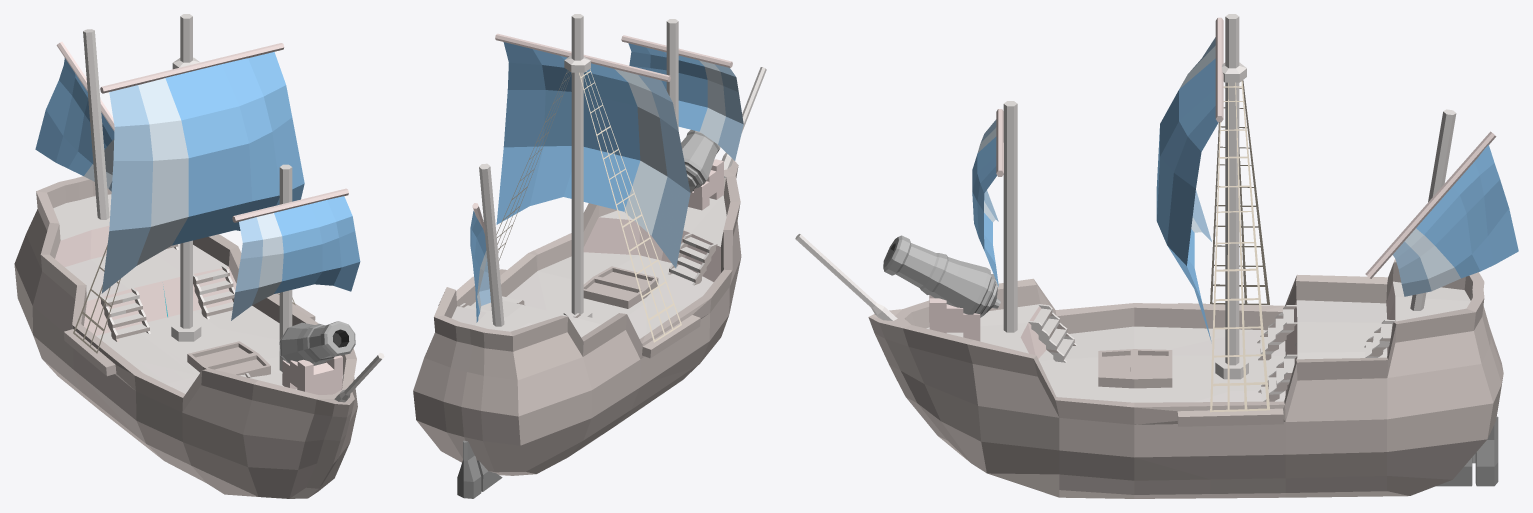
Rendered from calion2.fbx.
The picture shows the model from 3 angles, left to right: view 1: azimuth 30°, elevation 25°; view 2: azimuth 150°, elevation 25°; view 3: azimuth 270°, elevation 25°; orthographic projection. The views are drawn at different scales.
Parts seen in each view (by area): view 1: hullFront.009, sailMiddle.011, hullBack.009, sailFront.001, sailBack.001, cannon.001, mastBack.001, cannonSeat.001, mastMiddle.005, ladder.005, Cylinder.026, ladder.004 (+6 smaller); view 2: hullBack.009, sailMiddle.011, hullFront.009, sailFront.001, mastMiddle.005, ropes.001, mastBack.001, cannon.001, sailBack.001, rudder.001, ladder.003, Cylinder.026 (+4 smaller); view 3: hullBack.009, hullFront.009, sailBack.001, sailMiddle.011, ropes.001, cannon.001, mastMiddle.005, mastFront.001, sailFront.001, rudder.001, Cylinder.032, cannonSeat.001 (+6 smaller).
Part boxes in pixels (left/top/right/bottom): hullFront.009: left=63, top=317, right=357, bottom=498; sailMiddle.011: left=101, top=52, right=304, bottom=293; hullBack.009: left=14, top=176, right=318, bottom=456; sailFront.001: left=231, top=196, right=360, bottom=320; sailBack.001: left=35, top=58, right=114, bottom=191; cannon.001: left=279, top=321, right=355, bottom=365; mastBack.001: left=83, top=29, right=109, bottom=219; cannonSeat.001: left=282, top=355, right=342, bottom=394; mastMiddle.005: left=172, top=14, right=200, bottom=328; ladder.005: left=100, top=288, right=150, bottom=342; Cylinder.026: left=100, top=43, right=284, bottom=93; ladder.004: left=193, top=265, right=235, bottom=319; hullBack.009: left=413, top=253, right=691, bottom=475; sailMiddle.011: left=496, top=42, right=690, bottom=268; hullFront.009: left=528, top=160, right=741, bottom=382; sailFront.001: left=628, top=43, right=743, bottom=160; mastMiddle.005: left=564, top=14, right=590, bottom=314; ropes.001: left=496, top=69, right=681, bottom=342; mastBack.001: left=479, top=163, right=504, bottom=326; cannon.001: left=681, top=129, right=720, bottom=192; sailBack.001: left=470, top=211, right=490, bottom=322; rudder.001: left=457, top=440, right=502, bottom=498; ladder.003: left=668, top=233, right=717, bottom=285; Cylinder.026: left=495, top=33, right=670, bottom=81; hullBack.009: left=1134, top=259, right=1503, bottom=497; hullFront.009: left=868, top=278, right=1284, bottom=498; sailBack.001: left=1393, top=145, right=1518, bottom=296; sailMiddle.011: left=1156, top=37, right=1218, bottom=341; ropes.001: left=1210, top=80, right=1269, bottom=412; cannon.001: left=883, top=235, right=1000, bottom=317; mastMiddle.005: left=1222, top=14, right=1246, bottom=365; mastFront.001: left=1003, top=101, right=1017, bottom=332; sailFront.001: left=972, top=119, right=998, bottom=286; rudder.001: left=1436, top=416, right=1498, bottom=486; Cylinder.032: left=1365, top=131, right=1496, bottom=278; cannonSeat.001: left=929, top=295, right=980, bottom=341.
Size of the model in its own units: 2.54 by 4.86 by 6.8.
